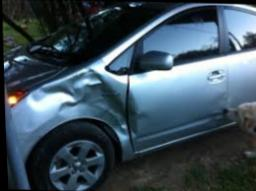Fender: (20, 63, 130, 163)
